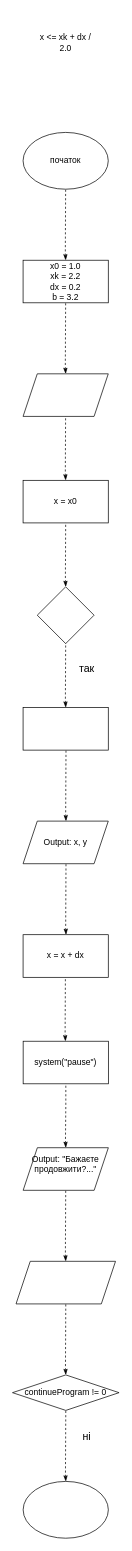
Some shapes in this 132 by 1551 pixel diagram are drawn without their labels. The box of each missing label's shape, as (x1, y1, x2, y2) in pixels:
Input:continueProgram: (15, 1261, 116, 1304)
Output: "x\ty(x)": (22, 373, 108, 416)
y = 9.0 * (pow(x, 3) + pow(b, 3)) * tan(x): (22, 707, 108, 750)
кінець: (22, 1481, 108, 1538)
